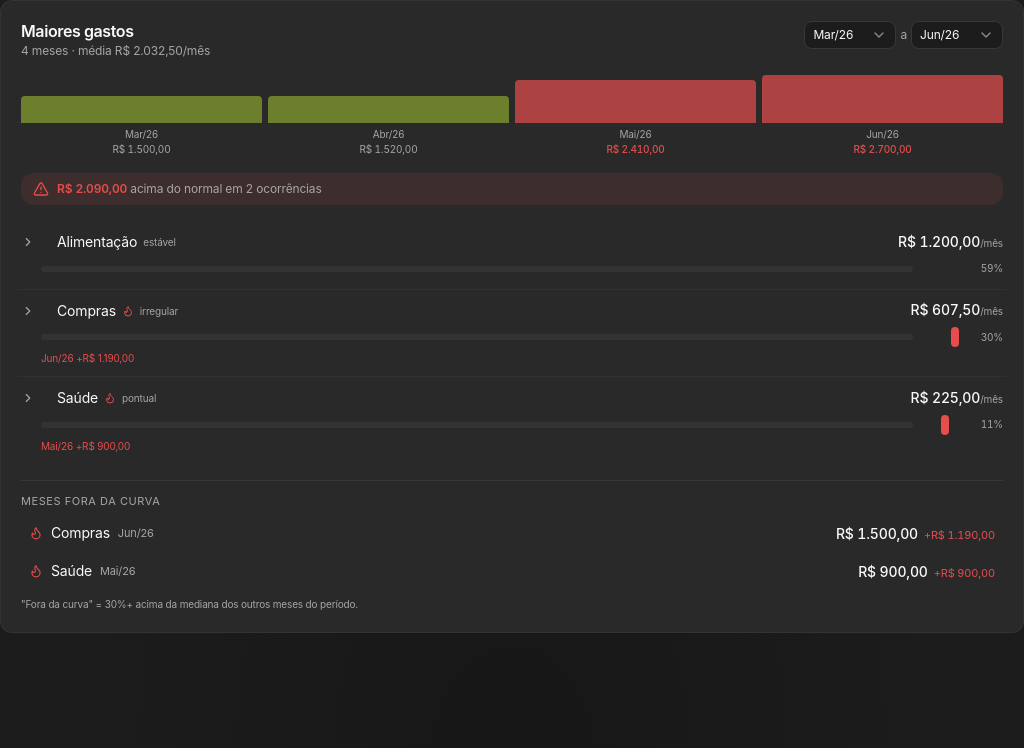
it: <PicosGastos /> › abrir outra categoria fecha a anterior
The width and height of the screenshot is (1024, 748).
Step 1. Click the button "Compras irregular R$ 607,50/mês" → (86,310), box [21,300,1003,327]
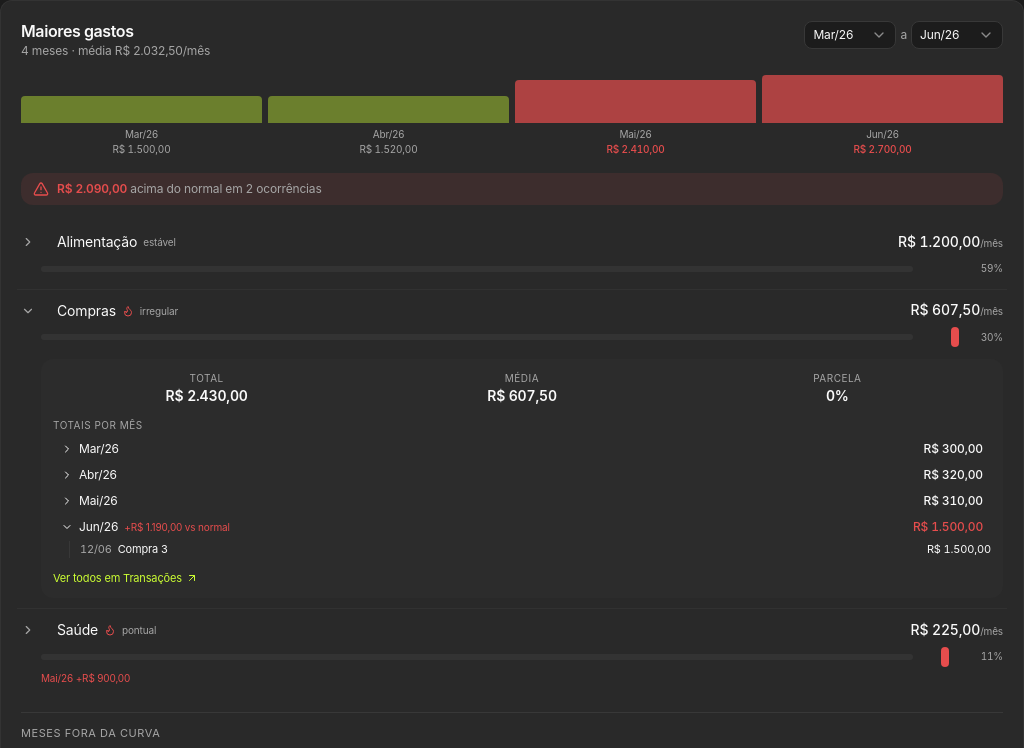
Expected: the text "Compra 3" is shown, [118,541,168,558]
Step 2. Click the button "Alimentação estável R$ 1.200,00/mês" → (97,242), box [21,232,1003,258]
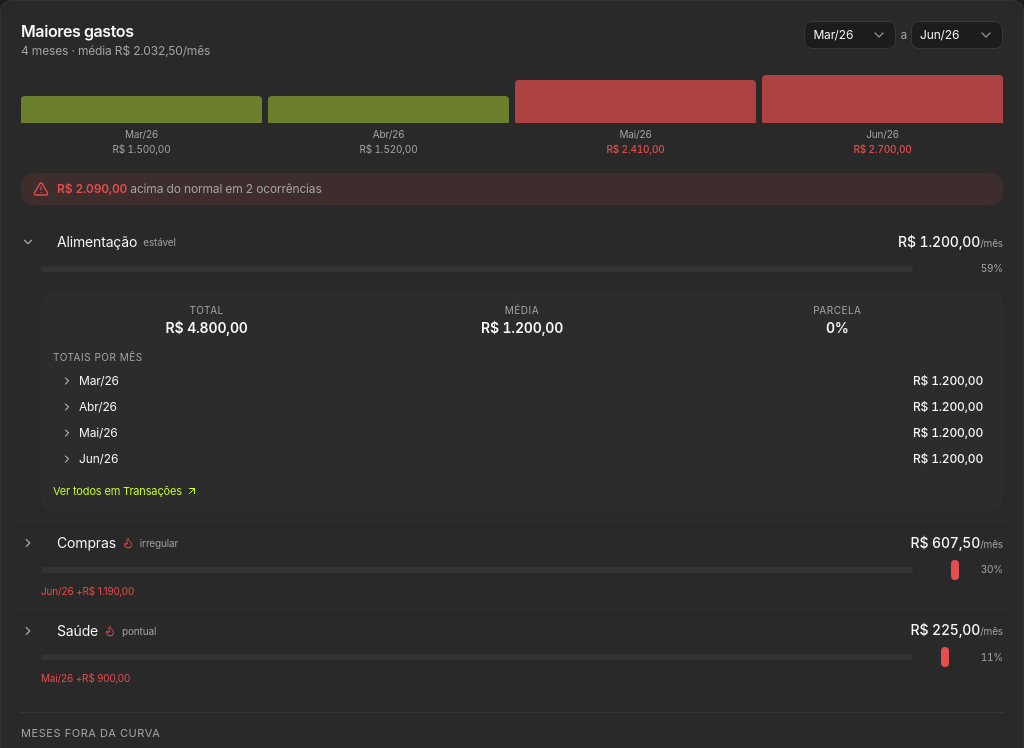
Expected: the text "Totais por mês" is shown, [53,350,143,362]
Expected: the text "Compra 3" is gone
